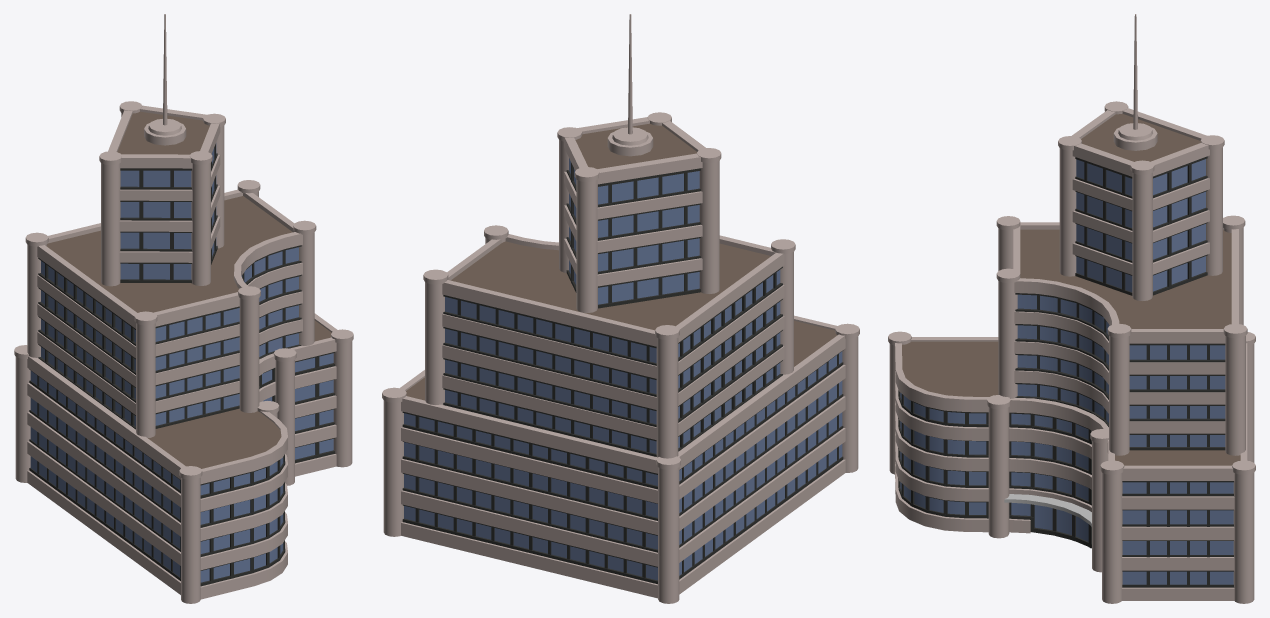
File: LargeBuilding_03.fbx
3 renders of one model, left to right at view 1: azimuth 30°, elevation 25°; view 2: azimuth 150°, elevation 25°; view 3: azimuth 270°, elevation 25°, orthographic. The views are drawn at different scales.
Visible parts, largest first — view 1: LargeBuilding_03; view 2: LargeBuilding_03; view 3: LargeBuilding_03.
Boxes of the visible parts, bbox=[...] form: LargeBuilding_03: bbox=[14, 14, 353, 603]; LargeBuilding_03: bbox=[382, 14, 859, 603]; LargeBuilding_03: bbox=[888, 14, 1255, 603].
Bounding box in the file's own units: 43.7 × 73.56 × 48.92.
